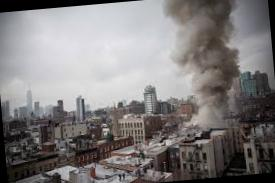Smoke: (155, 0, 254, 136)
